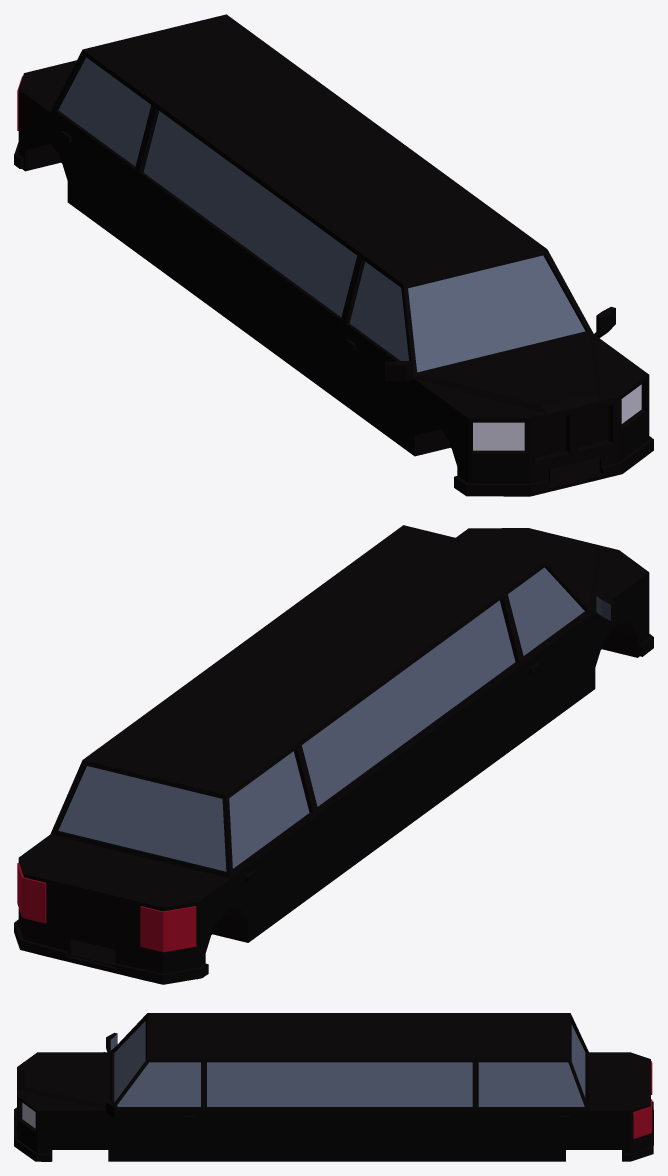
File: Limousine.glb
3 renders of one model, top to bottom at view 1: azimuth 30°, elevation 25°; view 2: azimuth 150°, elevation 25°; view 3: azimuth 270°, elevation 25°, orthographic. The views are drawn at different scales.
Parts seen in each view (by area): view 1: Limousine; view 2: Limousine; view 3: Limousine.
Boxes of the visible parts, box(x1,y1,x2,y2) form: Limousine: box(14, 14, 653, 496); Limousine: box(14, 525, 653, 984); Limousine: box(14, 1013, 653, 1161).
Bounding box in the file's own units: 281 × 170 × 1024.
